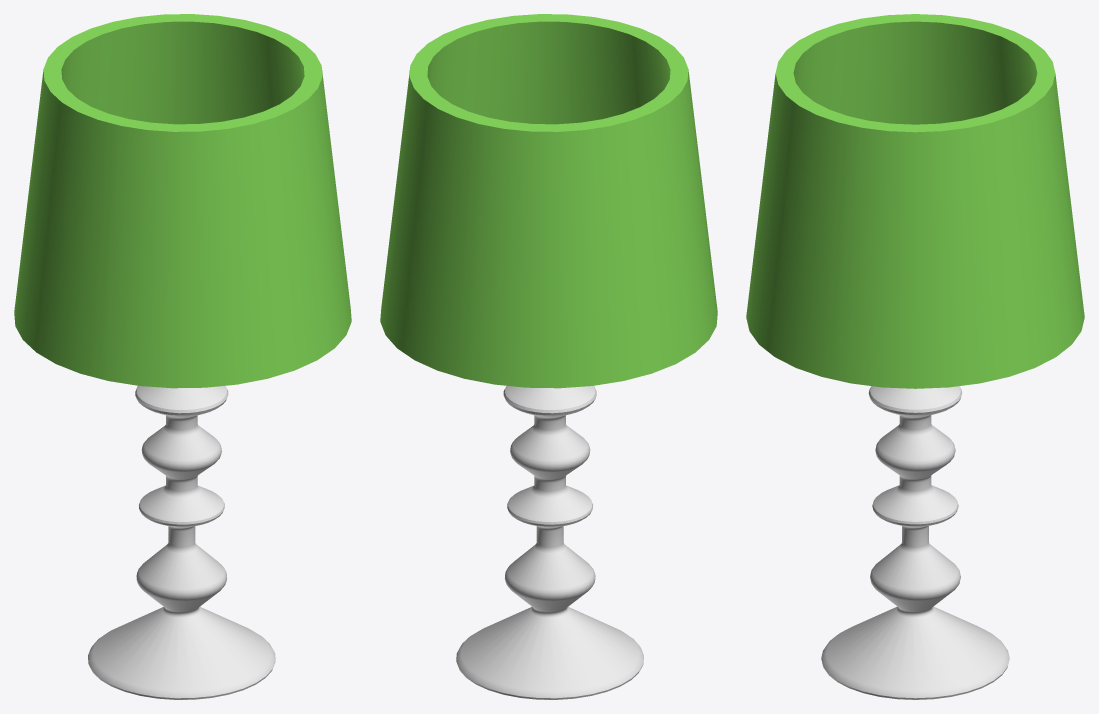
Rendered from lamba2.fbx.
3 views of the same model, side by side, from view 1: azimuth 30°, elevation 25°; view 2: azimuth 150°, elevation 25°; view 3: azimuth 270°, elevation 25° (orthographic).
Visible parts, largest first — view 1: Cylinder.001; view 2: Cylinder.001; view 3: Cylinder.001.
Part boxes in pixels (<box>): Cylinder.001: <box>14,14,351,699</box>; Cylinder.001: <box>380,14,717,699</box>; Cylinder.001: <box>746,14,1084,699</box>.
Bounding box in the file's own units: 42.16 × 80.99 × 42.16.
